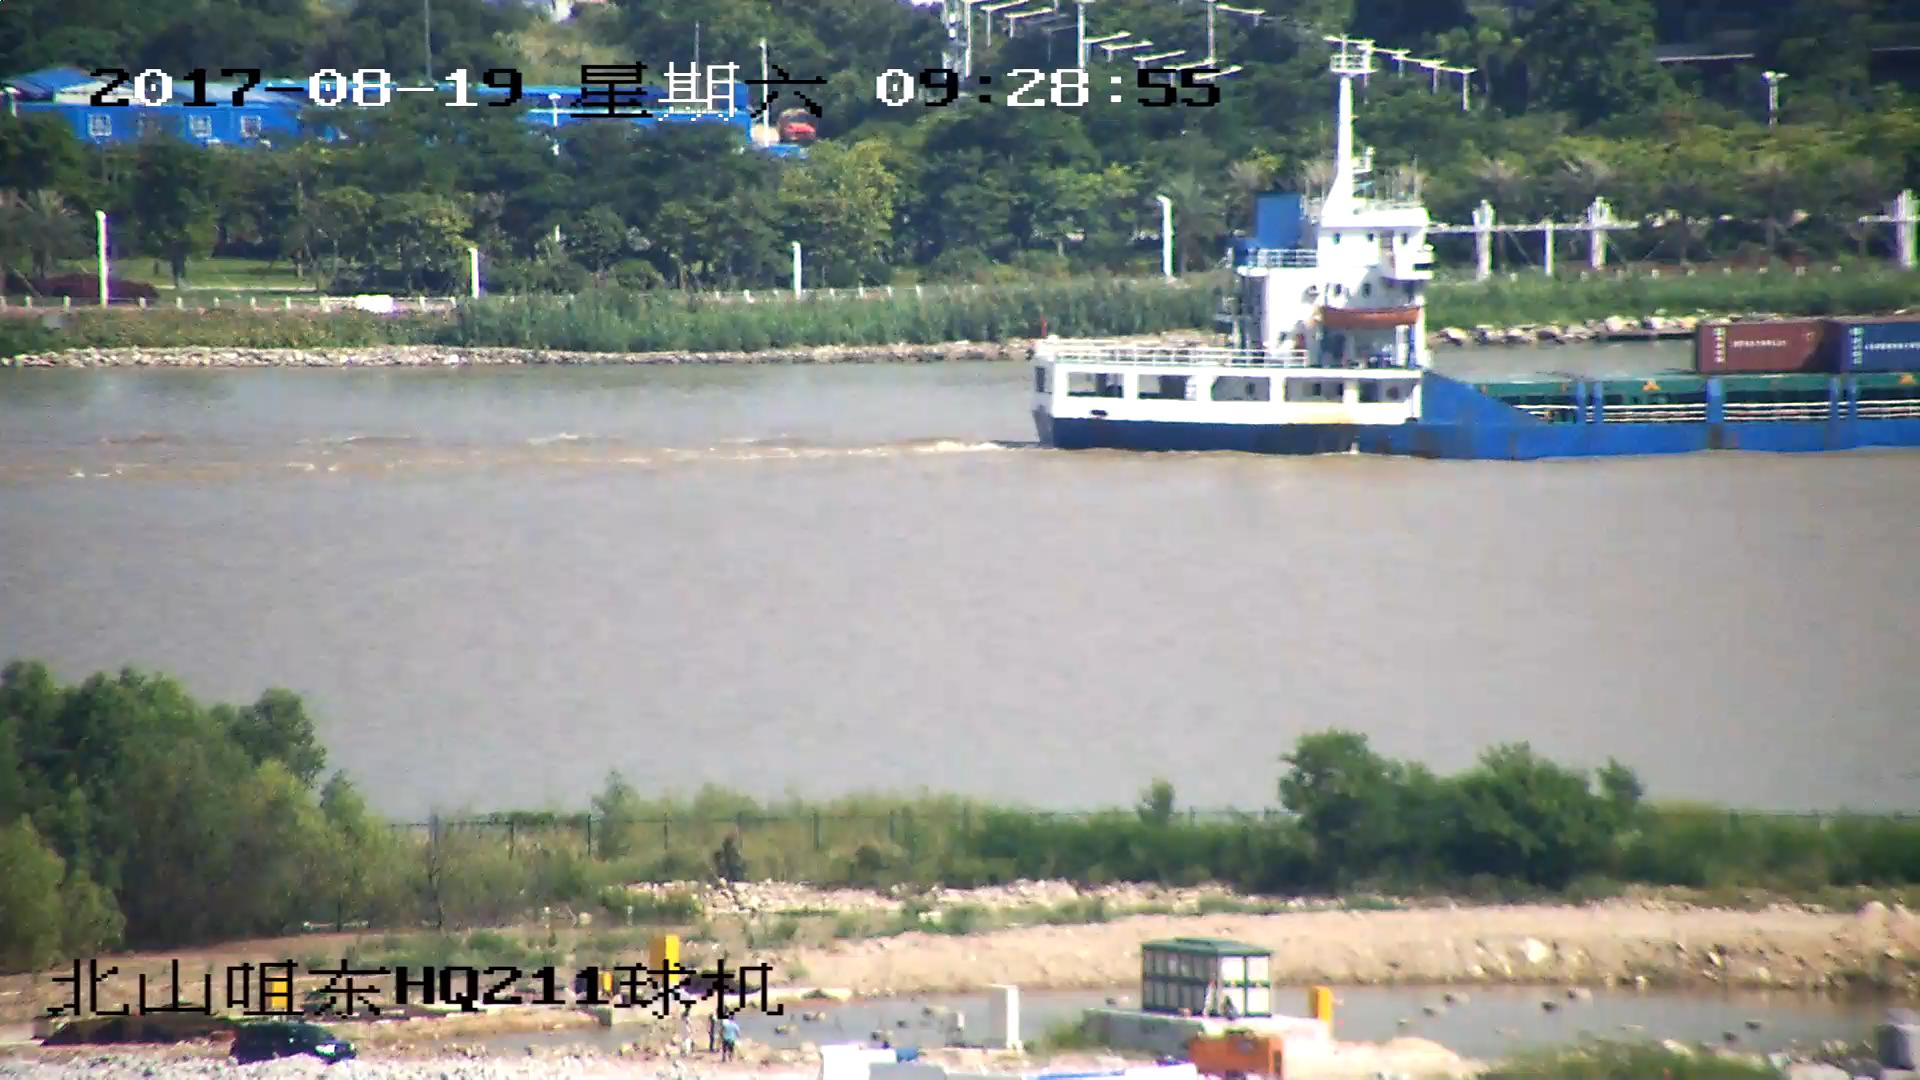general cargo ship: (1026, 107, 1920, 460)
